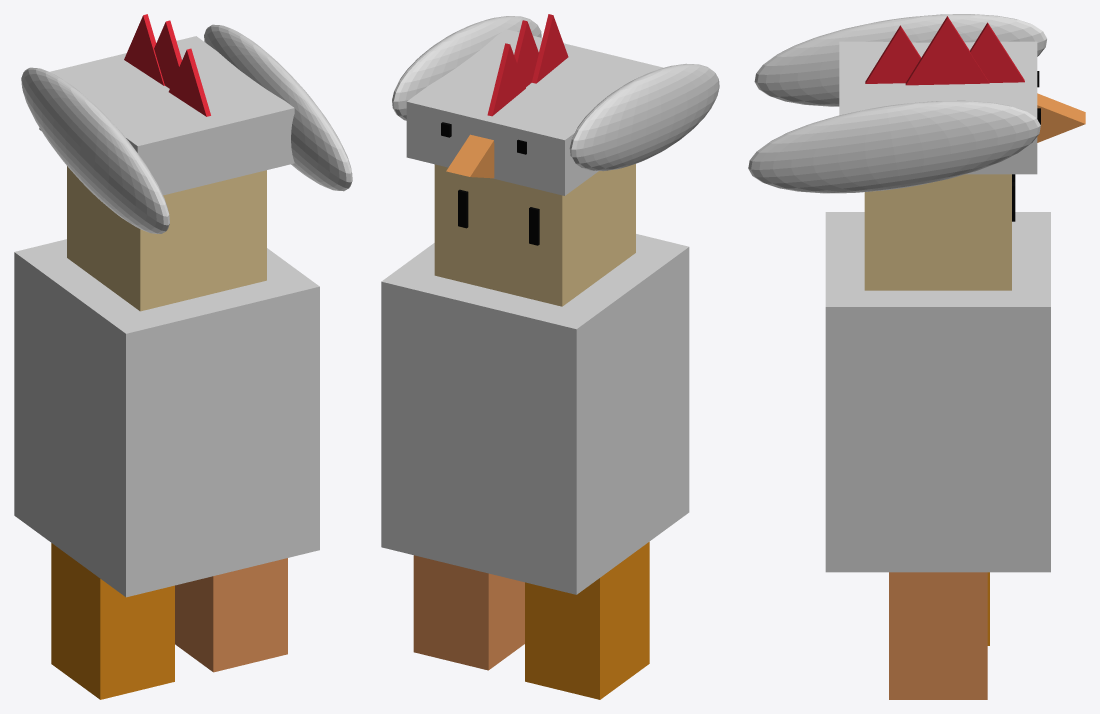
The model's file is Player.fbx.
3 views of the same model, side by side, from view 1: azimuth 30°, elevation 25°; view 2: azimuth 150°, elevation 25°; view 3: azimuth 270°, elevation 25° (orthographic).
Parts seen in each view (by area): view 1: Body, Hat, Head, Cube.001, Wing 1, Cube, Wing 2, Cylinder.003, Cylinder, Cylinder.002; view 2: Body, Head, Hat, Cube.001, Cube, Wing 1, Wing 2, Beak, Cylinder, Cylinder.003, Cylinder.002; view 3: Body, Wing 2, Head, Cube, Wing 1, Hat, Cylinder.002, Cylinder.003, Cylinder, Beak.
Boxes of the visible parts, x1=… form: Body: x1=14, y1=239, x2=319, y2=597; Hat: x1=39, y1=36, x2=294, y2=195; Head: x1=67, y1=166, x2=266, y2=311; Cube.001: x1=51, y1=543, x2=174, y2=699; Wing 1: x1=21, y1=67, x2=169, y2=233; Cube: x1=175, y1=558, x2=287, y2=672; Wing 2: x1=204, y1=24, x2=352, y2=191; Cylinder.003: x1=168, y1=48, x2=210, y2=116; Cylinder: x1=124, y1=14, x2=164, y2=85; Cylinder.002: x1=154, y1=20, x2=181, y2=88; Body: x1=381, y1=234, x2=689, y2=594; Head: x1=434, y1=164, x2=635, y2=306; Hat: x1=406, y1=29, x2=663, y2=195; Cube.001: x1=525, y1=542, x2=649, y2=699; Cube: x1=413, y1=555, x2=524, y2=670; Wing 1: x1=569, y1=63, x2=719, y2=171; Wing 2: x1=392, y1=16, x2=541, y2=120; Beak: x1=446, y1=134, x2=494, y2=178; Cylinder: x1=487, y1=43, x2=525, y2=116; Cylinder.003: x1=532, y1=14, x2=568, y2=83; Cylinder.002: x1=514, y1=20, x2=538, y2=87; Body: x1=825, y1=212, x2=1050, y2=572; Wing 2: x1=748, y1=100, x2=1040, y2=193; Head: x1=864, y1=174, x2=1011, y2=290; Cube: x1=889, y1=572, x2=987, y2=699; Wing 1: x1=754, y1=14, x2=1046, y2=106; Hat: x1=839, y1=41, x2=1037, y2=174; Cylinder.002: x1=905, y1=16, x2=989, y2=85; Cylinder.003: x1=865, y1=25, x2=920, y2=83; Cylinder: x1=970, y1=22, x2=1024, y2=82; Beak: x1=1037, y1=93, x2=1085, y2=142.
Size of the model in its own units: 1.1 by 3.17 by 1.51.
